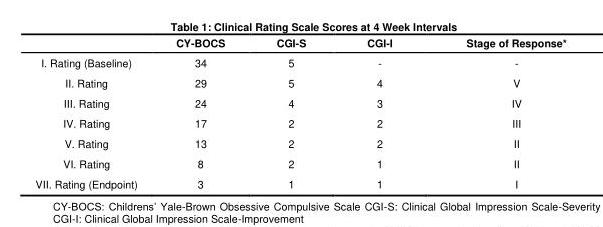table: (34, 34, 565, 190)
table column: (428, 34, 565, 190), (34, 34, 155, 190), (155, 34, 249, 190), (335, 34, 428, 190), (249, 34, 335, 190)
table column header: (34, 34, 565, 52)
table row: (34, 152, 565, 173), (34, 52, 565, 72), (34, 72, 565, 92), (34, 92, 565, 112), (34, 112, 565, 132), (34, 132, 565, 152), (34, 34, 565, 52), (34, 173, 565, 190)
